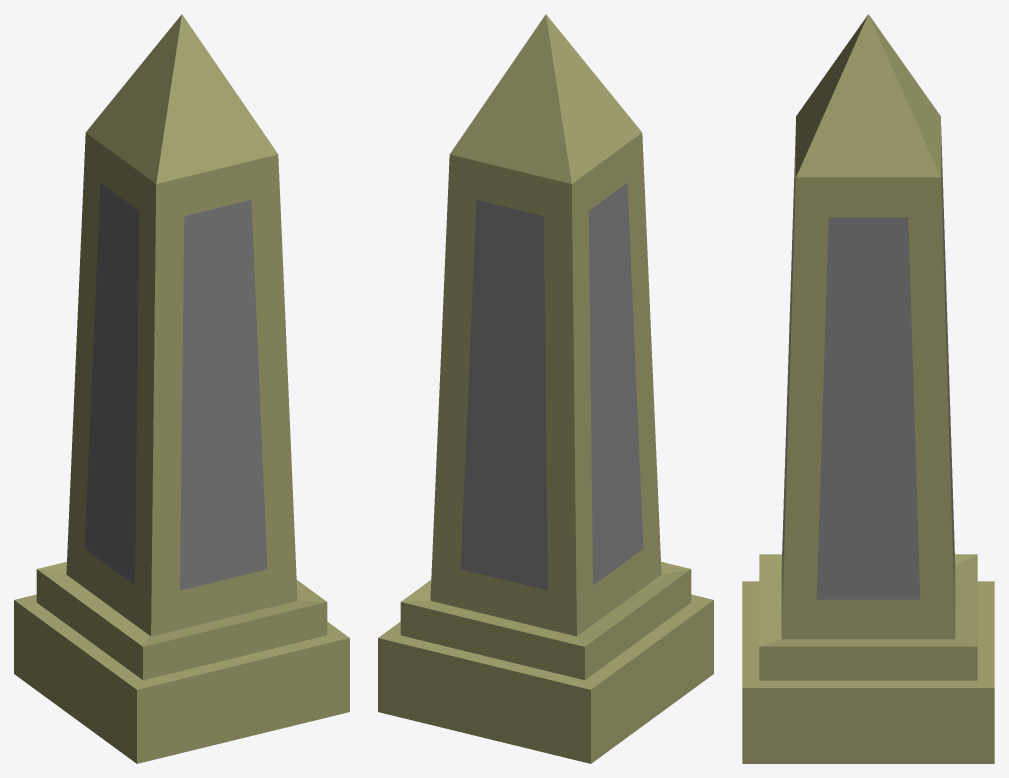
Rendered from obelisk.fbx.
The picture shows the model from 3 angles, left to right: view 1: azimuth 30°, elevation 25°; view 2: azimuth 150°, elevation 25°; view 3: azimuth 270°, elevation 25°; orthographic projection. The views are drawn at different scales.
Visible parts, largest first — view 1: Base; view 2: Base; view 3: Base.
Boxes of the visible parts, bbox=[...] form: Base: bbox=[14, 14, 349, 763]; Base: bbox=[378, 14, 713, 763]; Base: bbox=[742, 14, 994, 763].
Size of the model in its own units: 55.89 by 170 by 55.89.
